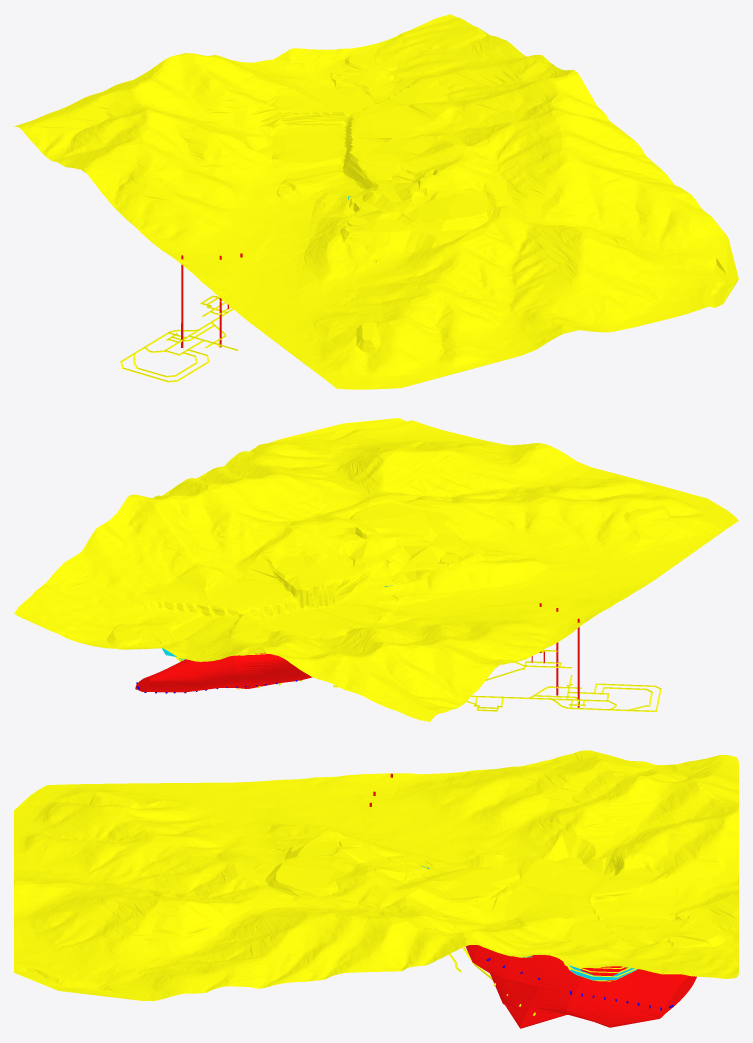
File: NoLod_1.glb
3 renders of one model, top to bottom at view 1: azimuth 30°, elevation 25°; view 2: azimuth 150°, elevation 25°; view 3: azimuth 270°, elevation 25°, orthographic. The views are drawn at different scales.
Parts seen in each view (by area): view 1: rtc; view 2: rtc; view 3: rtc.
Part boxes in pixels (x1,y1,x2,y2): rtc: (14, 14, 738, 389); rtc: (14, 418, 738, 721); rtc: (14, 750, 738, 1028).
Size of the model in its own units: 1363 by 375 by 1592.
